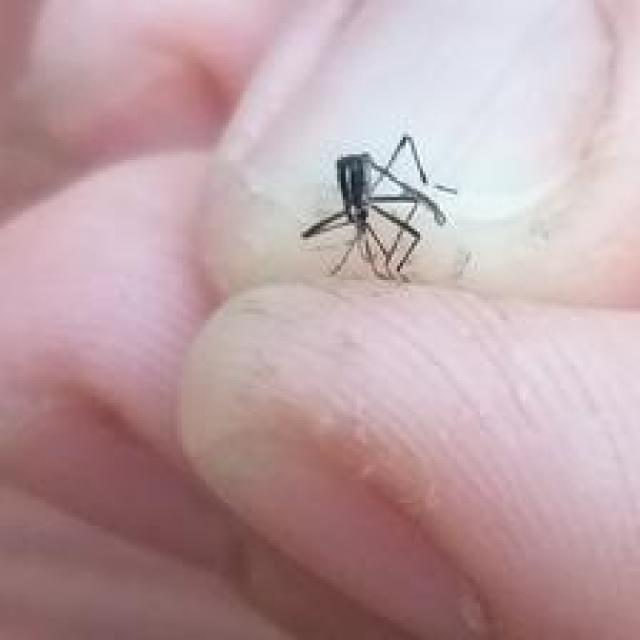Aedes albopictus: (298, 130, 458, 284)
